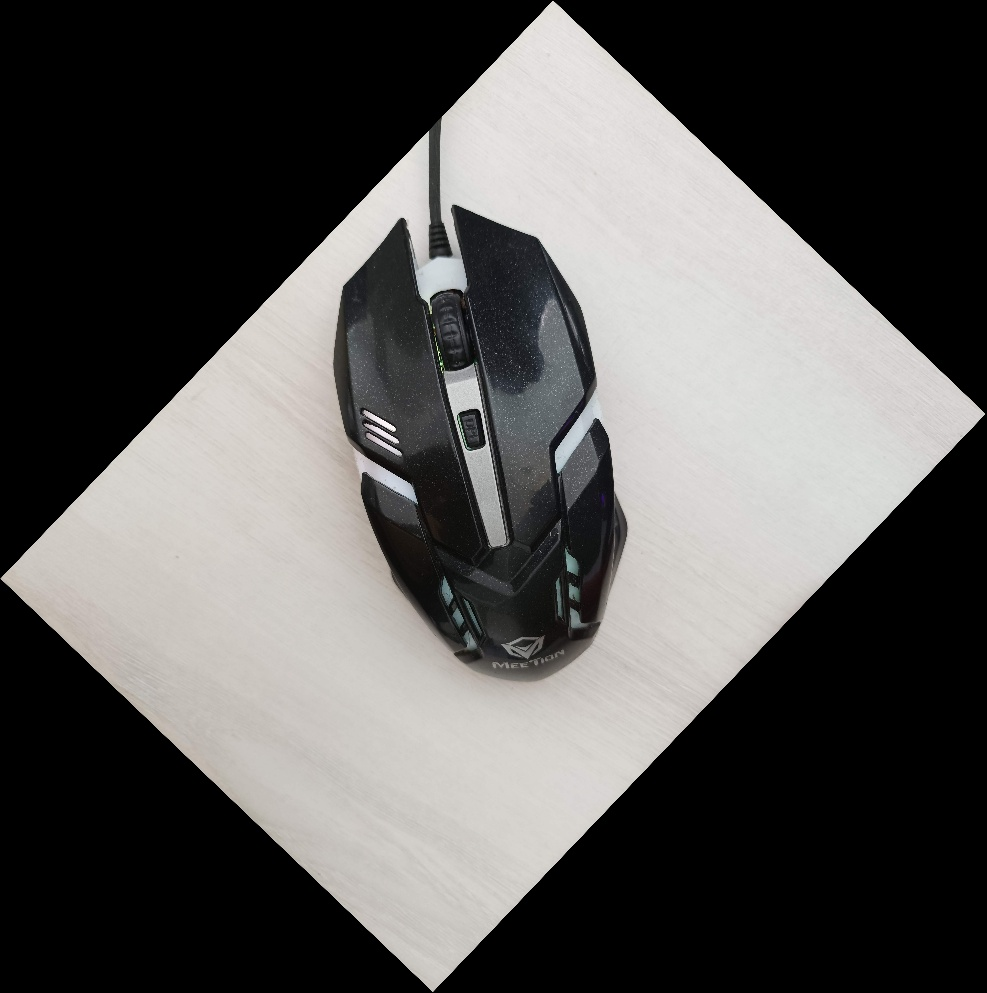mouse: (327, 199, 632, 686)
